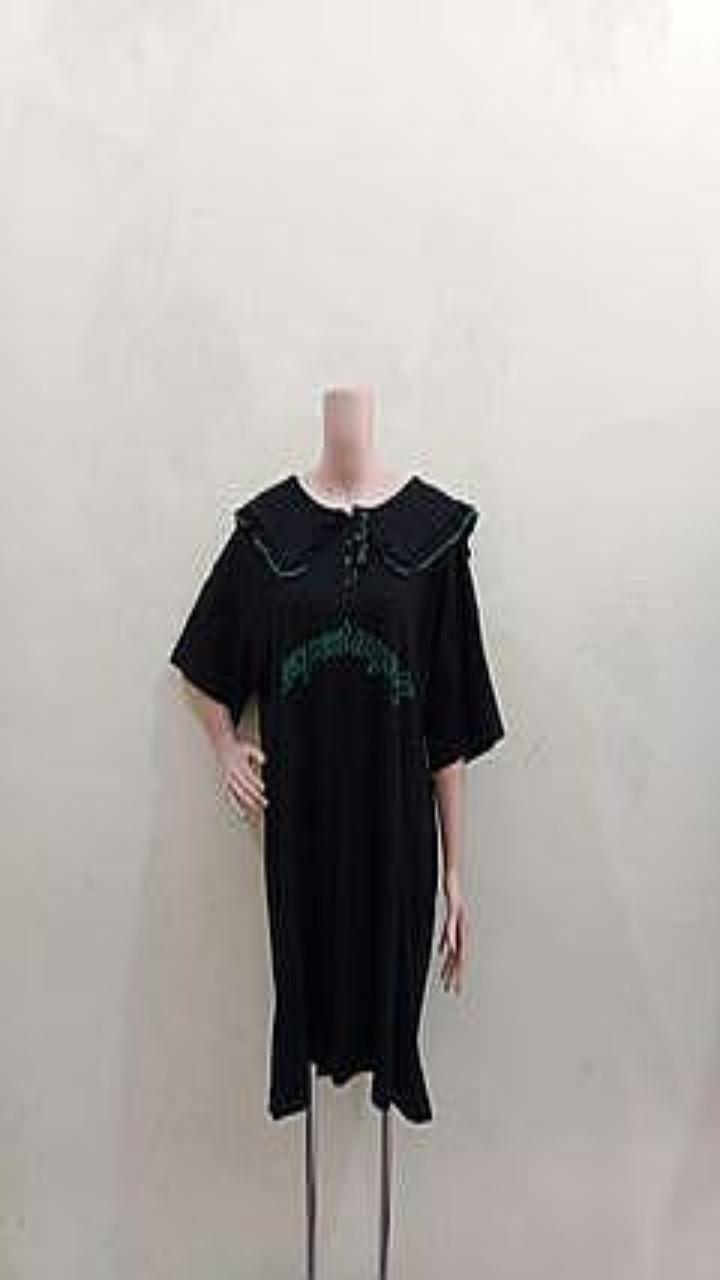Dresses: (170, 474, 503, 1121)
